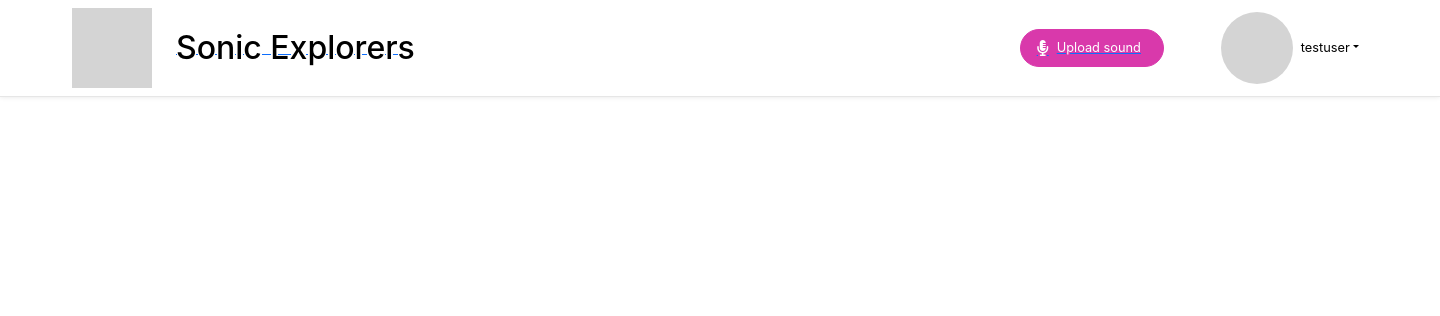
Test: renders reports link for staff users
This screenshot has width=1440, height=316.
Click the button "testuser": (1285, 48) [1221,12,1350,84]
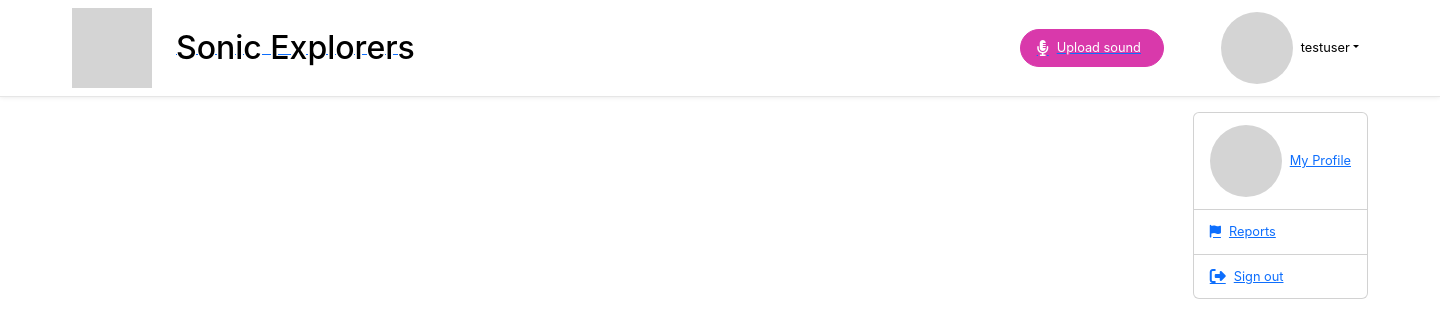
expect the link "Reports" is shown: met, box [1210,224,1276,239]
